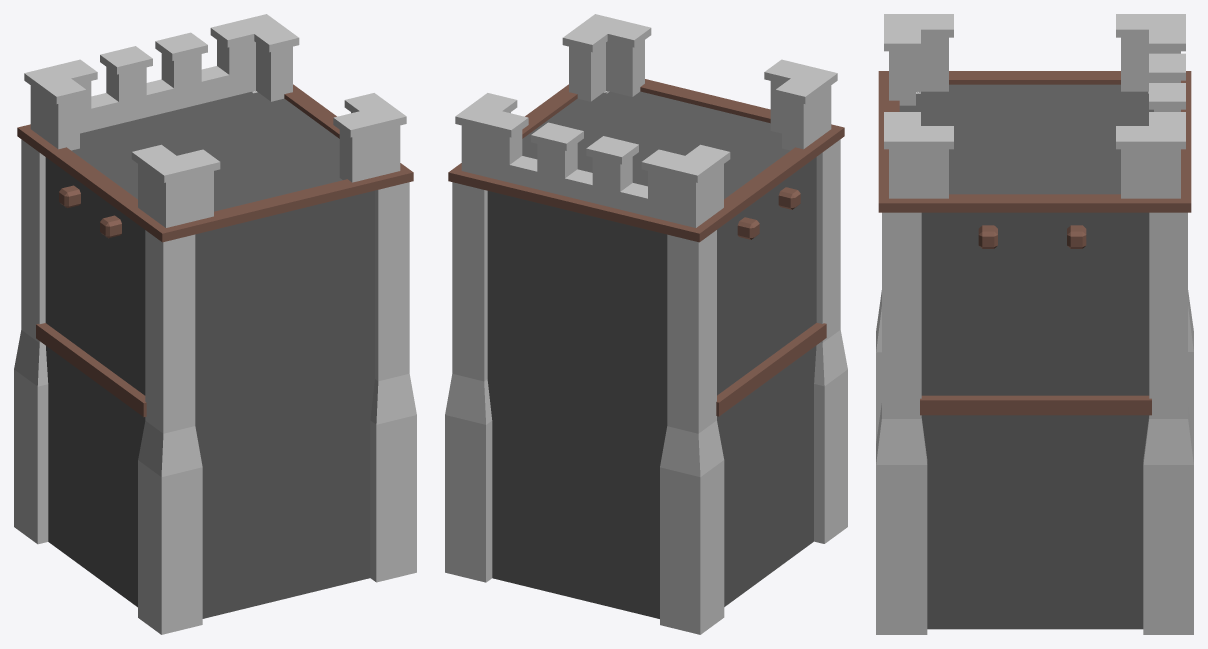
Rendered from torrePorton1.fbx.
3 renders of one model, left to right at view 1: azimuth 30°, elevation 25°; view 2: azimuth 150°, elevation 25°; view 3: azimuth 270°, elevation 25°, orthographic. The views are drawn at different scales.
Visible parts, largest first — view 1: fortification_tower_small; view 2: fortification_tower_small; view 3: fortification_tower_small.
Part boxes in pixels (left/top/right/bottom): fortification_tower_small: left=14, top=14, right=416, bottom=634; fortification_tower_small: left=445, top=14, right=847, bottom=634; fortification_tower_small: left=876, top=14, right=1193, bottom=634.
Bounding box in the file's own units: 887 × 1459 × 857.
